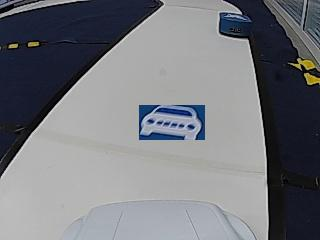prop: (220, 13, 252, 38)
